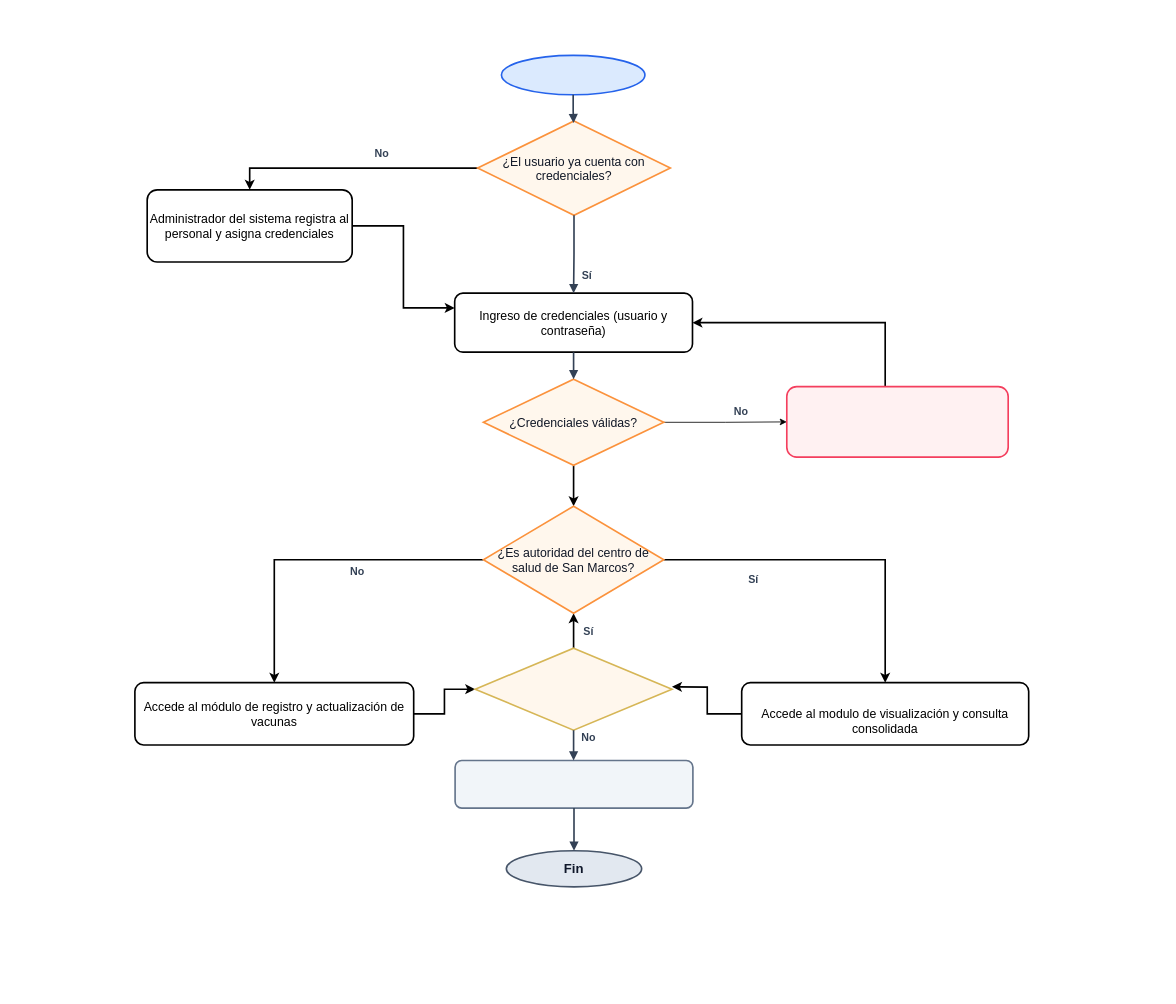
The diagram is 1176 pixels wide and 1004 high, and some of its shapes have lost their labels. Here are the shapes that lost their labels. From the top down, the centre of each, then its label:
At (x=572, y=74): "Inicio".
At (x=897, y=421): "Mostrar mensaje de error y permitir un nuevo intento".
At (x=573, y=689): "¿Desea realizar otra acción?".
At (x=573, y=784): "Cerrar sesión".
